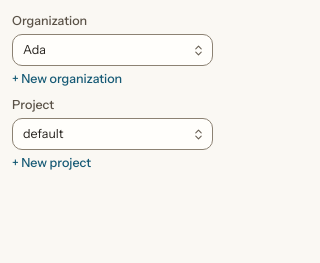
Test: creating an organization › shows the API's refusal, keeps what was typed and switches nowhere
This screenshot has width=320, height=263.
Click the button "+ New organization" at {"x": 67, "y": 79}, box [12,70,122,88]
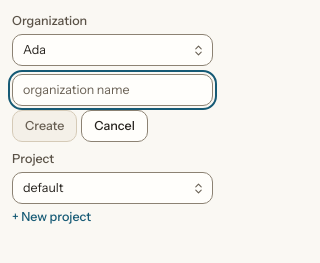
Type "Robotics" into the field named "New organization name" at {"x": 112, "y": 90}, box [12,74,213,106]
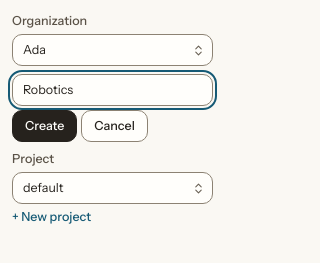
Click the button "Create" at {"x": 45, "y": 126}, box [12,110,77,142]
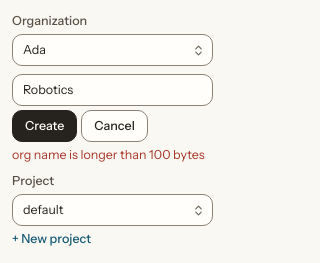
Now the text "org name is longer than 100 bytes" is shown, box [12,146,213,164]
